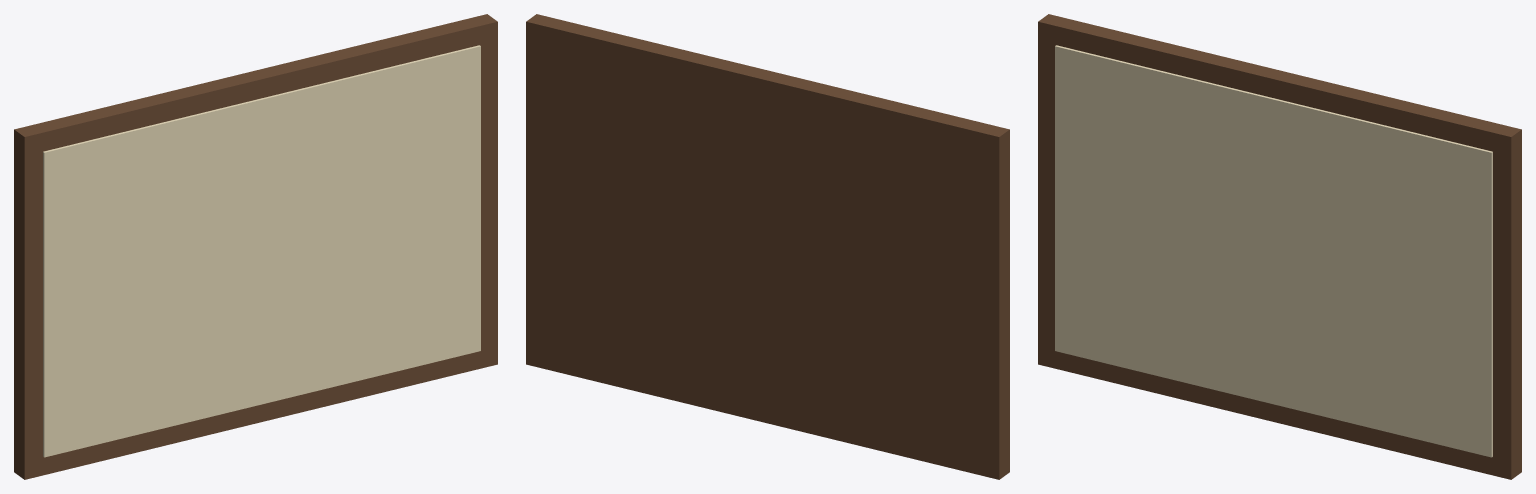
The model's file is parchment_board.glb.
The picture shows the model from 3 angles, left to right: view 1: azimuth 30°, elevation 25°; view 2: azimuth 150°, elevation 25°; view 3: azimuth 330°, elevation 25°; orthographic projection.
Parts seen in each view (by area): view 1: Board, Frame; view 2: Frame; view 3: Board, Frame.
Boxes of the visible parts, left/top/right/bottom form: Board: left=43, top=45, right=480, bottom=457; Frame: left=14, top=14, right=497, bottom=479; Frame: left=526, top=14, right=1009, bottom=479; Board: left=1055, top=45, right=1492, bottom=457; Frame: left=1038, top=14, right=1521, bottom=479.
Bounding box in the file's own units: 1.3 × 0.9 × 0.057.
